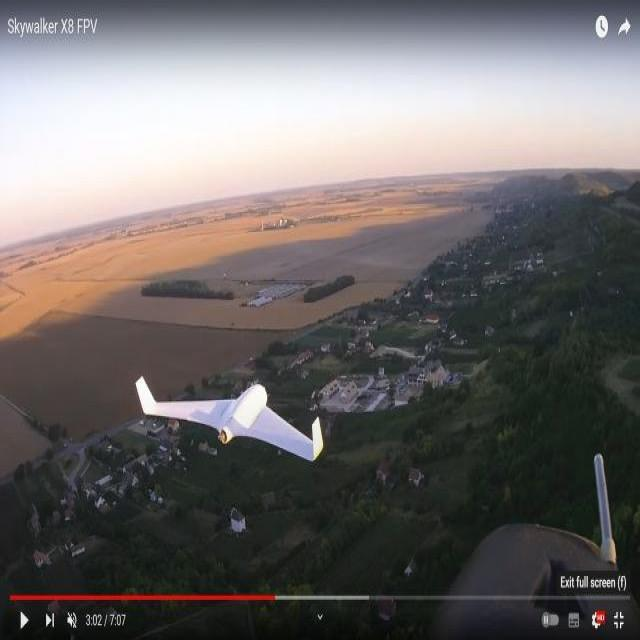UAV: (138, 354, 342, 468)
